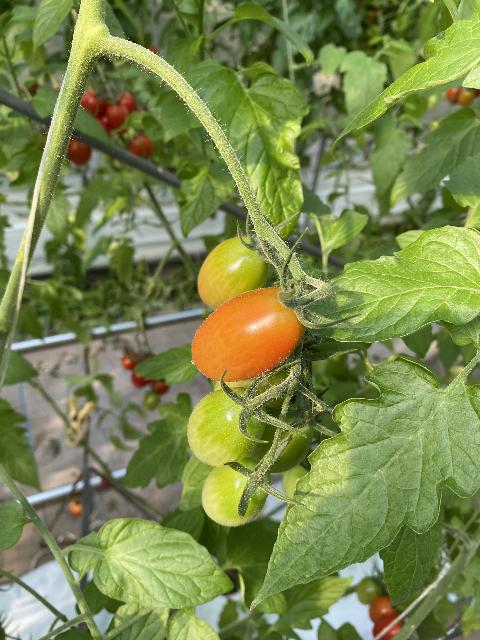l_green: (188, 387, 268, 467), (201, 460, 272, 528), (247, 403, 315, 473), (215, 362, 297, 412)
l_half_ripened: (191, 286, 307, 382), (196, 237, 273, 309)
